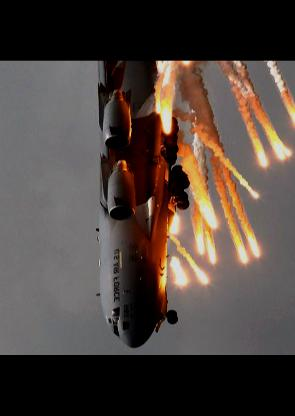C2: (96, 61, 192, 348)
